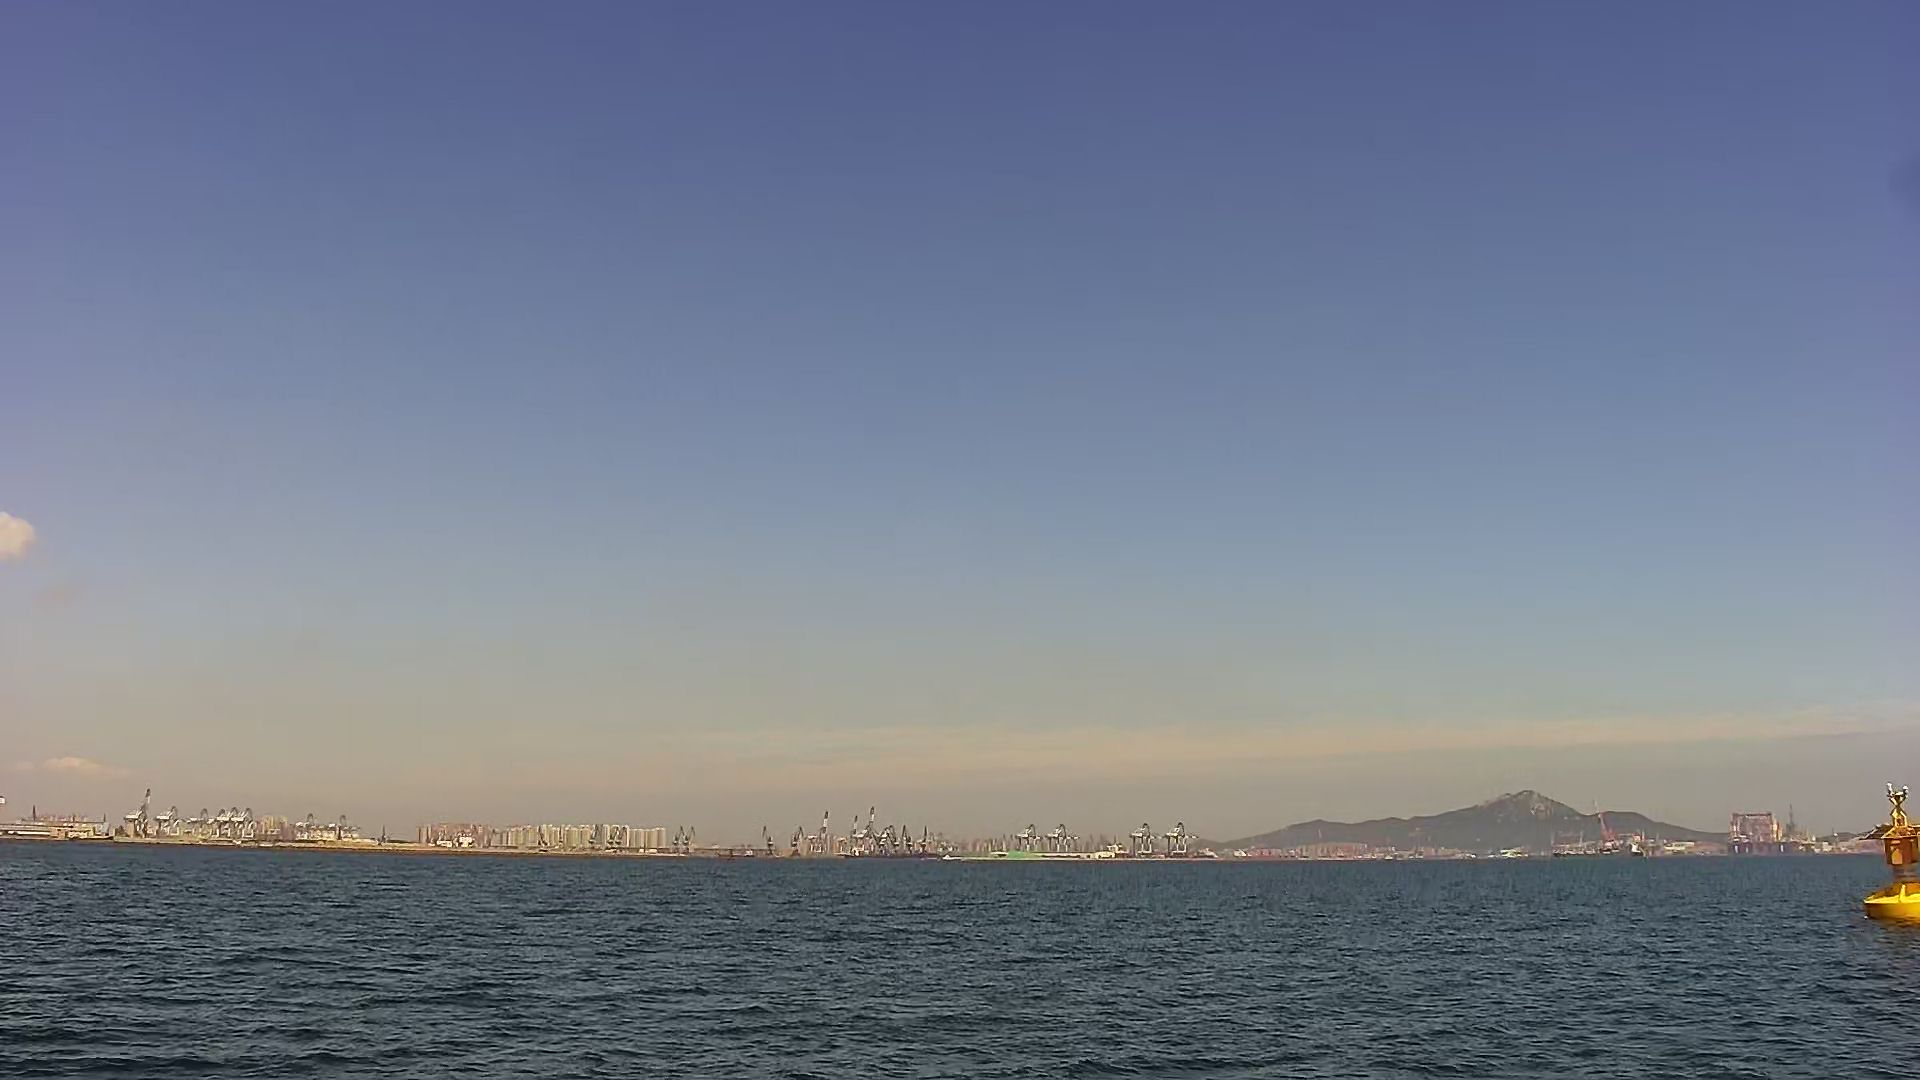buoy: (1858, 782, 1919, 928)
